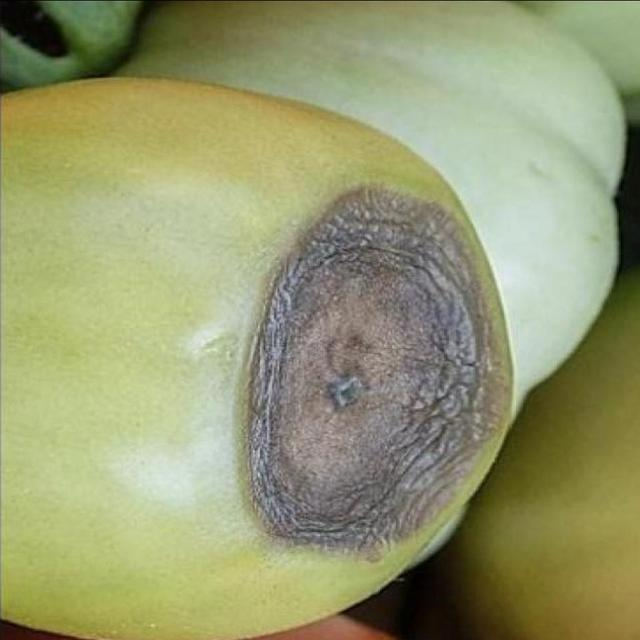Blossom End Rot Fruit: (138, 133, 336, 385)
